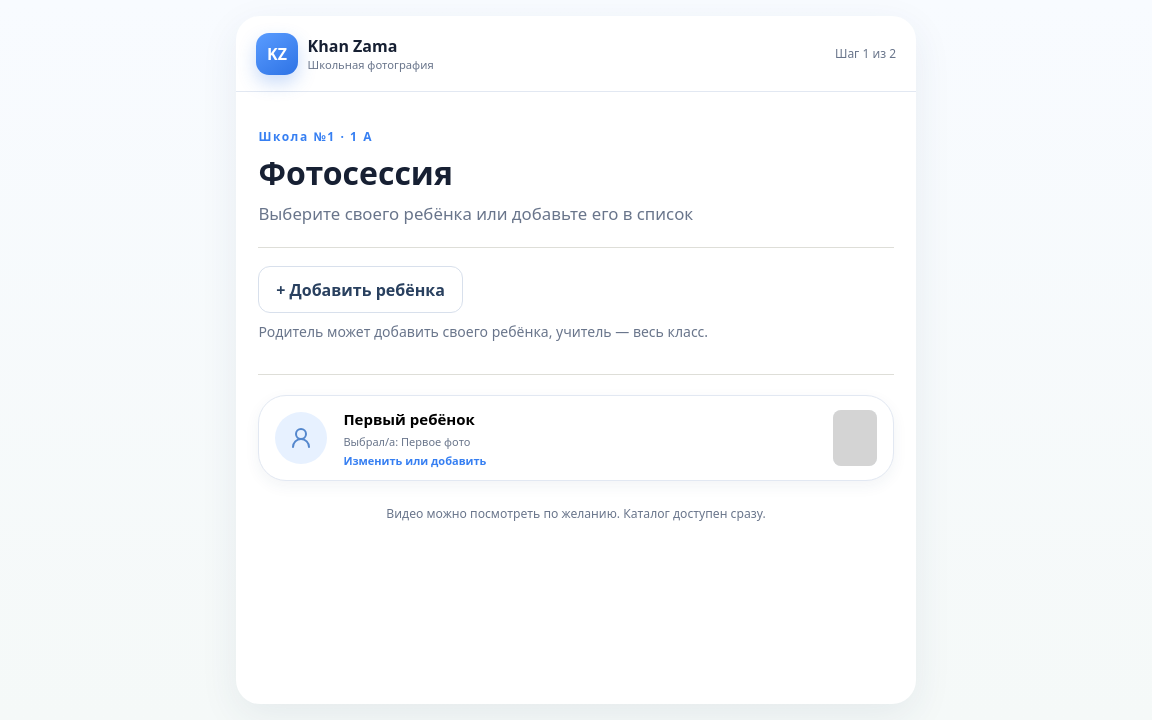
child to catalog navigation › lets a parent remove the final service and cancel the existing order
(page scrolled)
Click the button "Первый ребёнок Выбрал/а: Первое фото": click(301, 438) [258, 395, 894, 481]
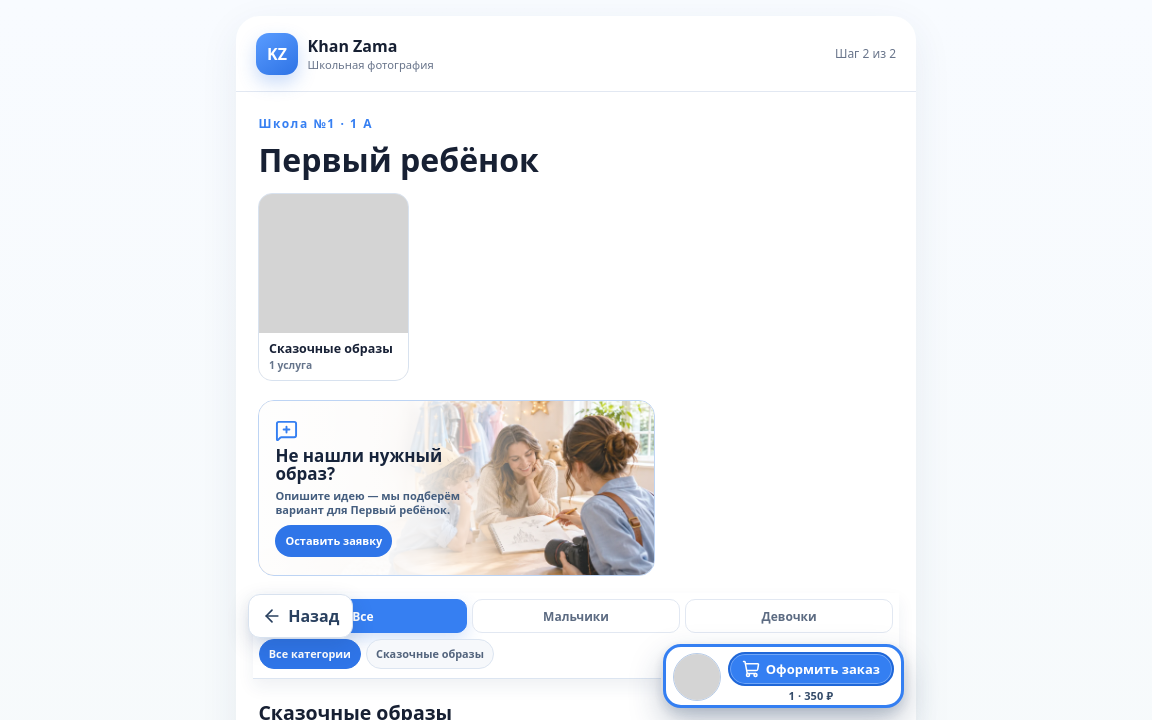
Click the button "Оформить заказ 1 · 350 ₽": click(783, 676) [663, 644, 904, 708]
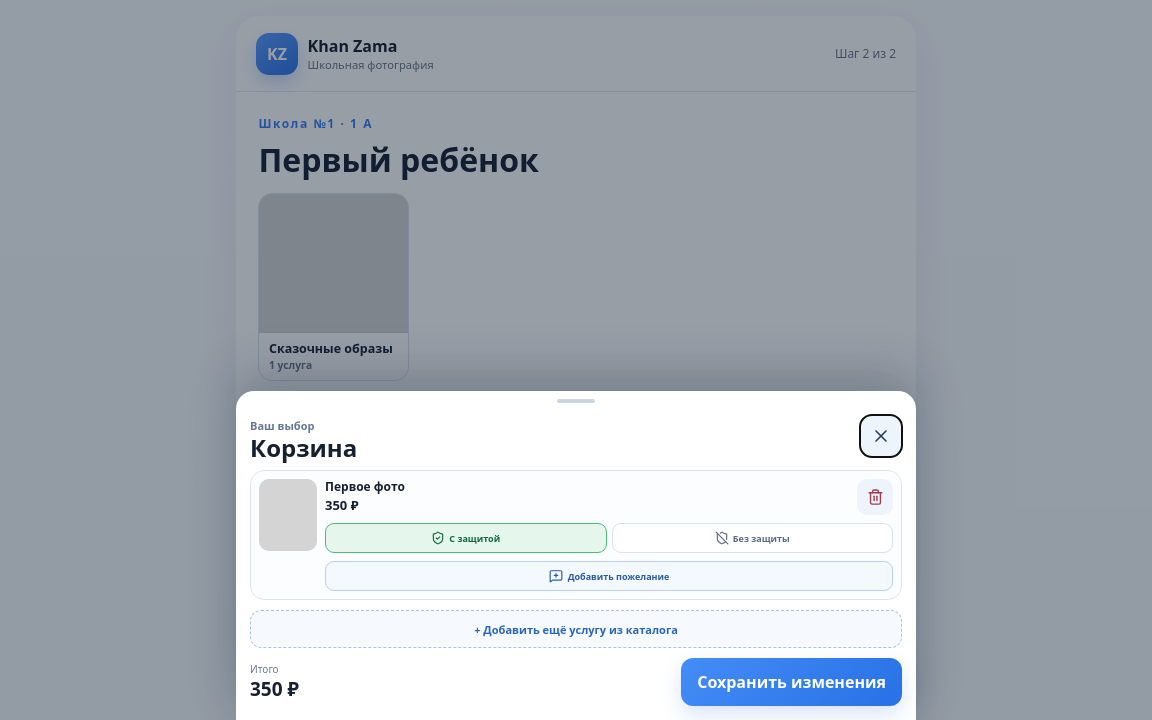
Click the button named "Убрать Первое фото из корзины": click(875, 497) [857, 479, 893, 515]
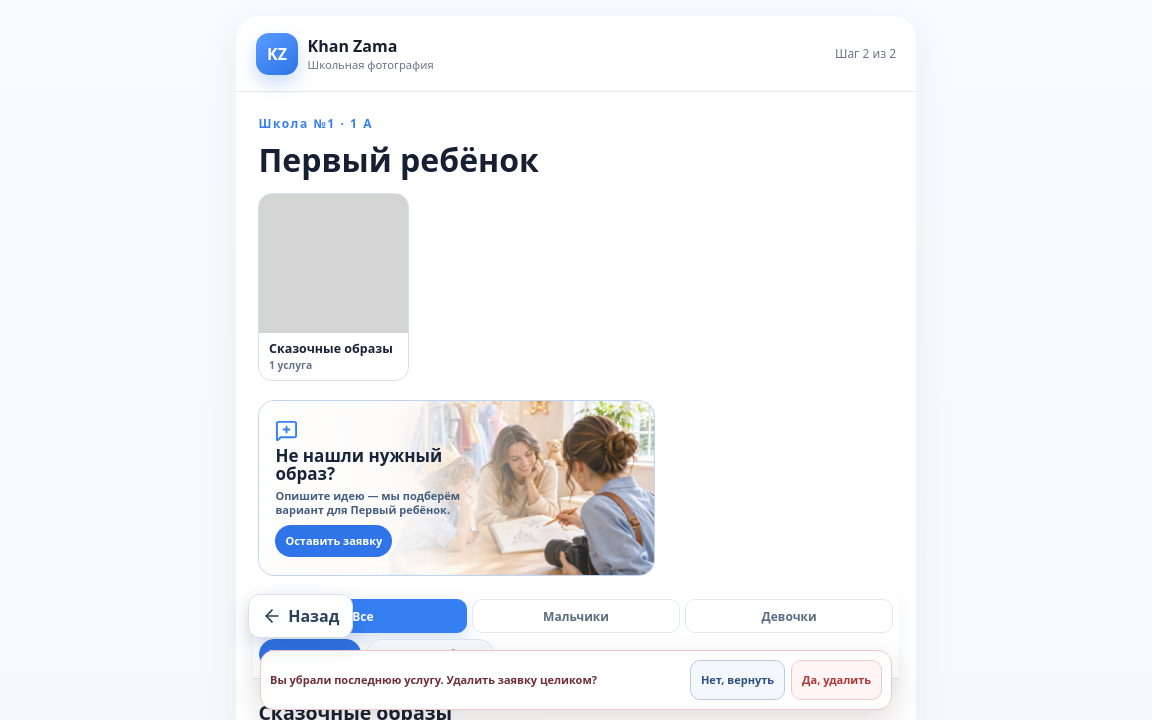
Click the button "Нет, вернуть": click(738, 680) [690, 660, 785, 700]
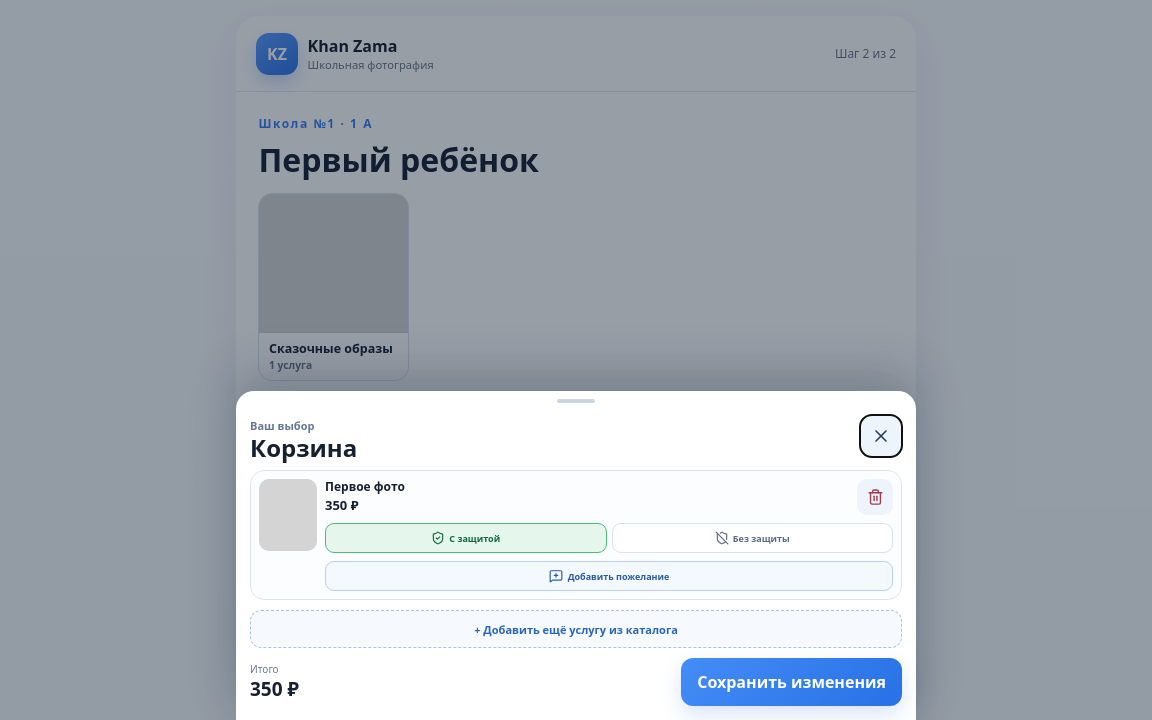
Now the dialog "Корзина" is shown, box [236, 391, 916, 719]
Now the button named "Убрать Первое фото из корзины" is shown
Click the button named "Убрать Первое фото из корзины": click(875, 497) [857, 479, 893, 515]
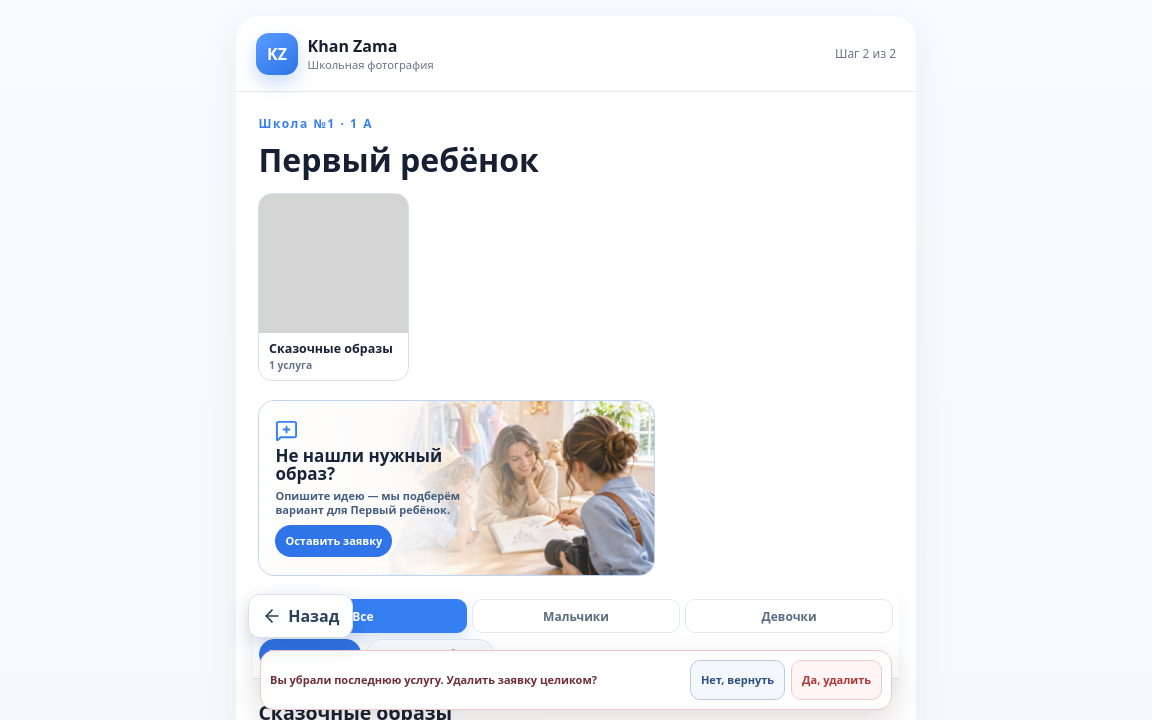
Click the button "Да, удалить": click(837, 680) [791, 660, 882, 700]
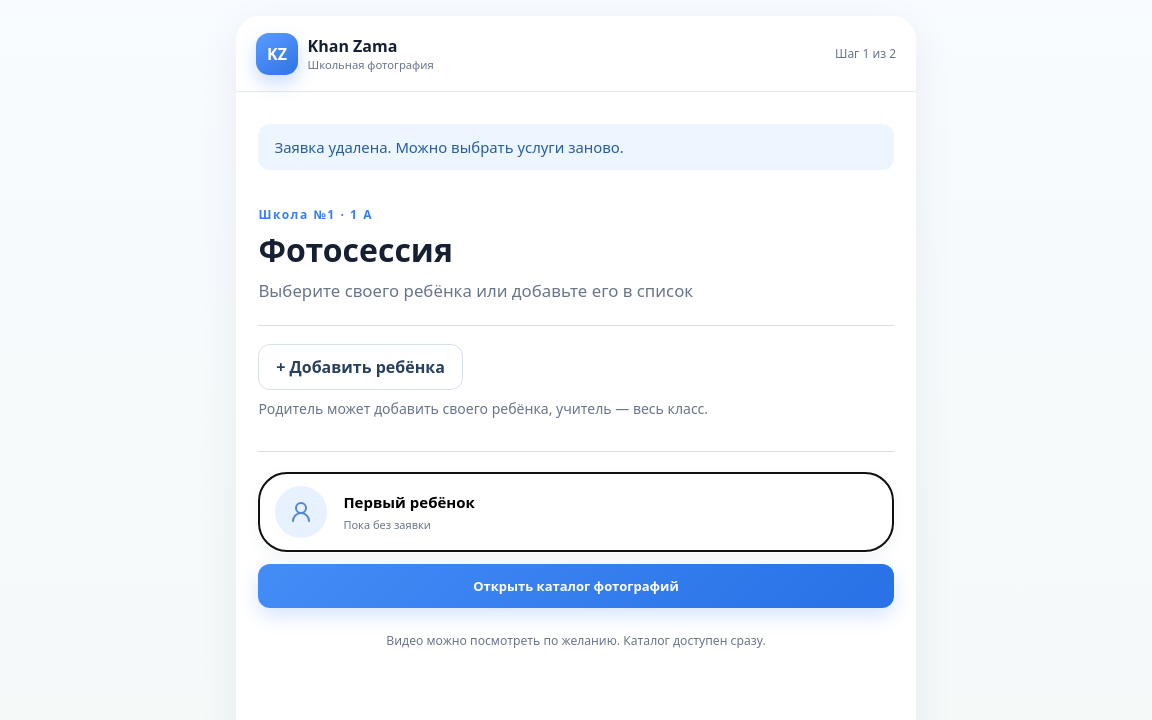
Now the text "Заявка удалена. Можно выбрать услуги заново." is shown, box [274, 137, 624, 157]
Now the text "Пока без заявки" is shown, box [343, 517, 431, 532]
